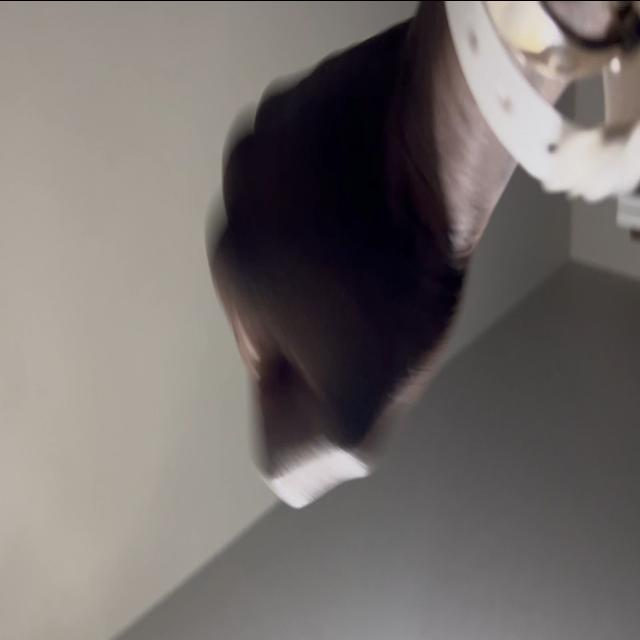Rock: (202, 18, 466, 504)
